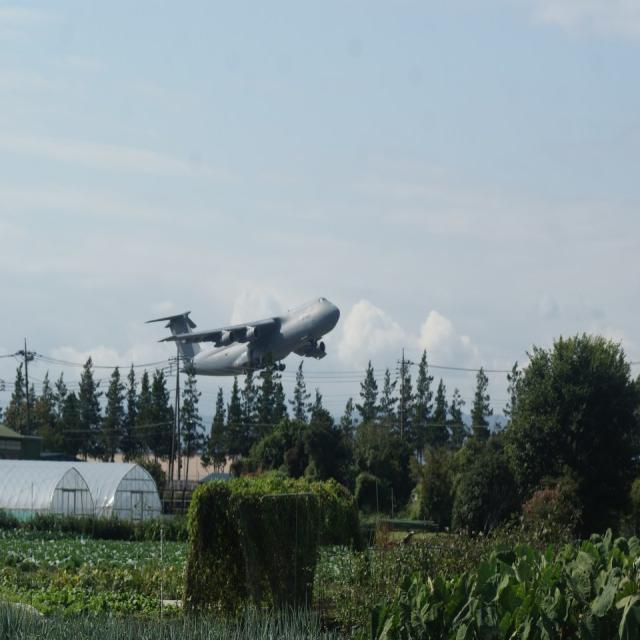MIL_Plane: (140, 296, 336, 376)
